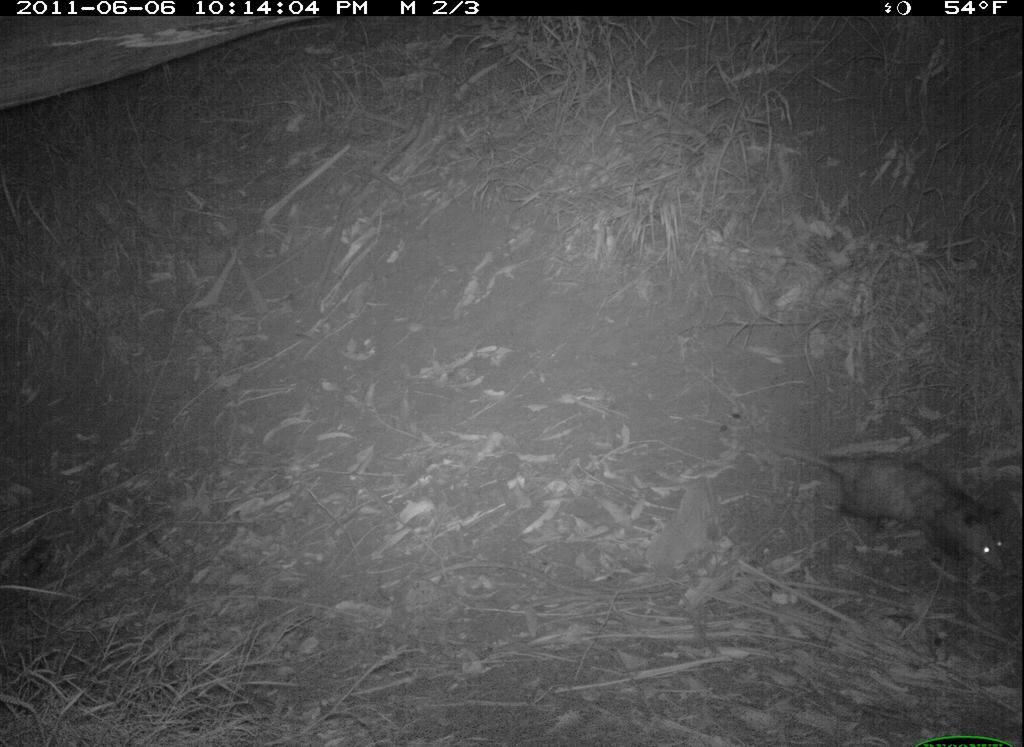opossum: (806, 437, 1018, 584)
